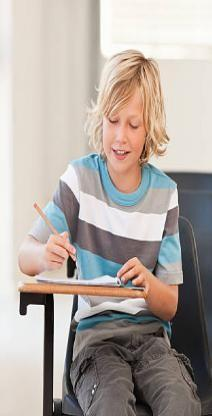good: (15, 36, 195, 314)
